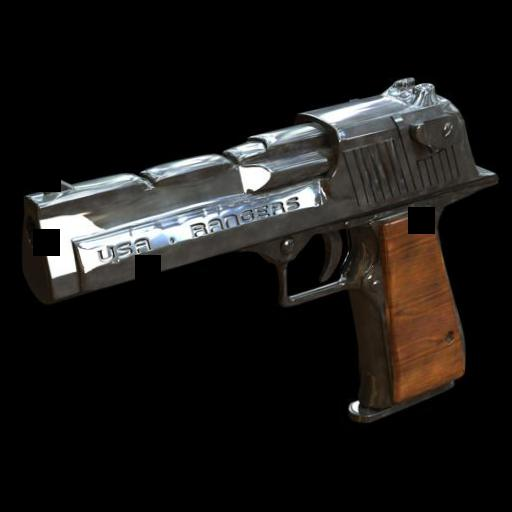Handgun: (16, 72, 495, 435)
